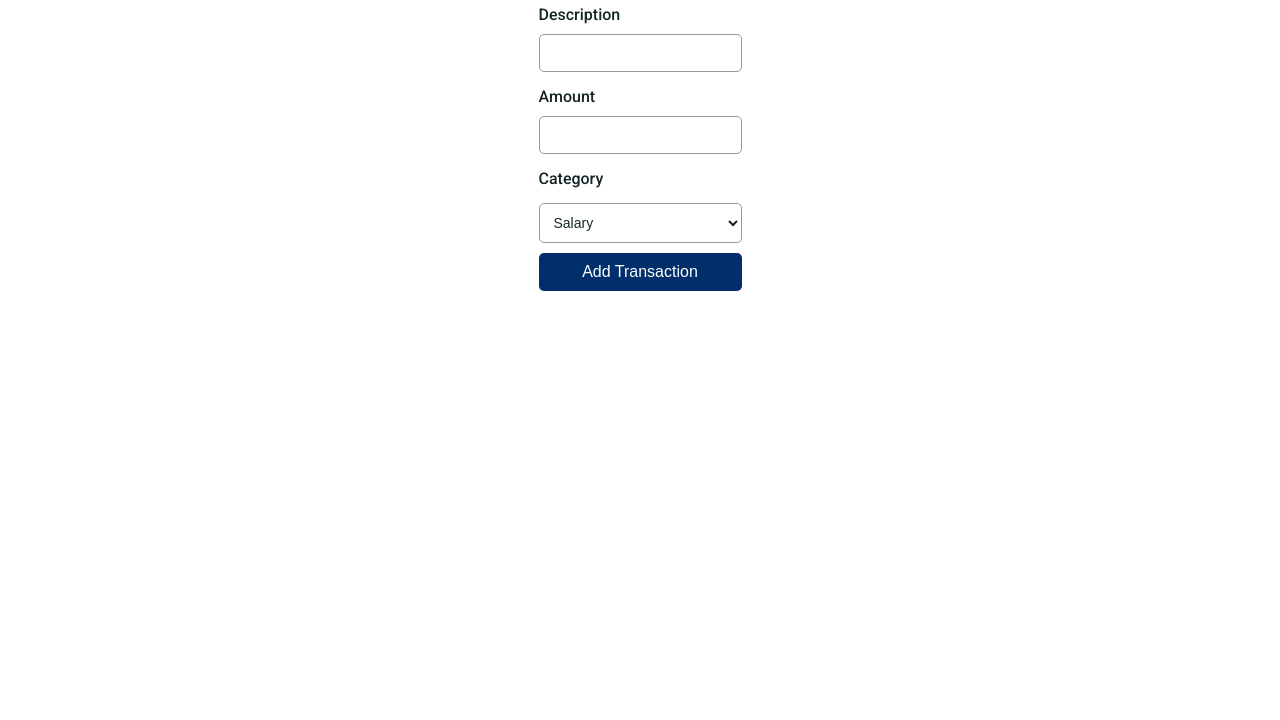
it: TransactionForm › shows error modal when submitting invalid data
Click the button: (640, 272) [538,253,742,291]
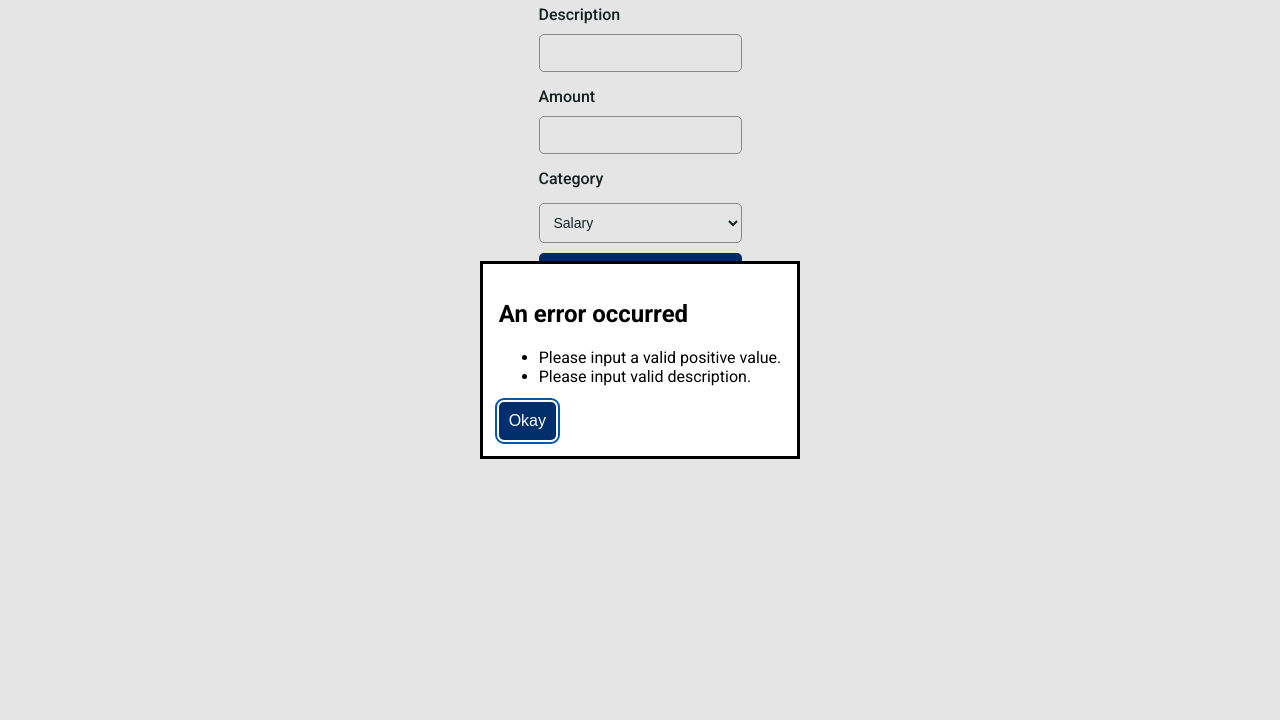
Check: the heading "An error occurred" is shown, box [499,300,688,328]
